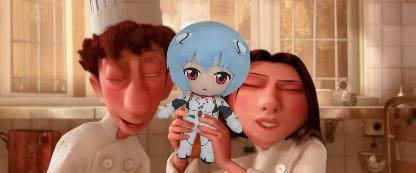rei-plush: (155, 18, 252, 165)
